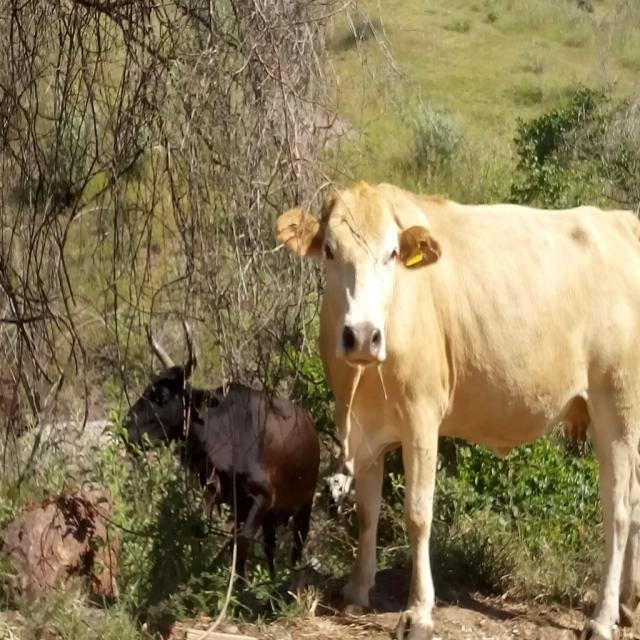cow: (275, 182, 640, 640), (126, 368, 320, 576)
